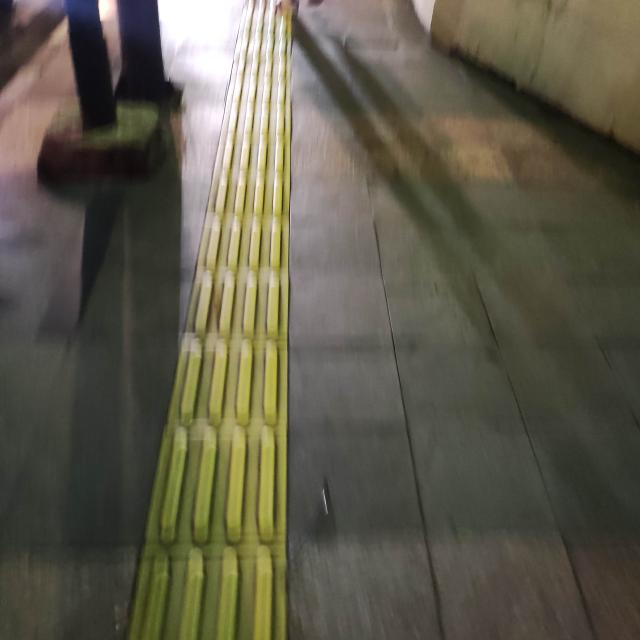lurus: (168, 52, 310, 640)
